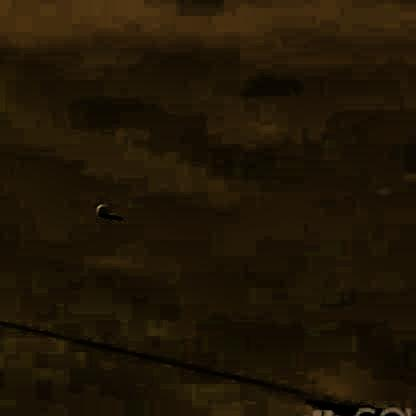golfball: (93, 196, 104, 212)
